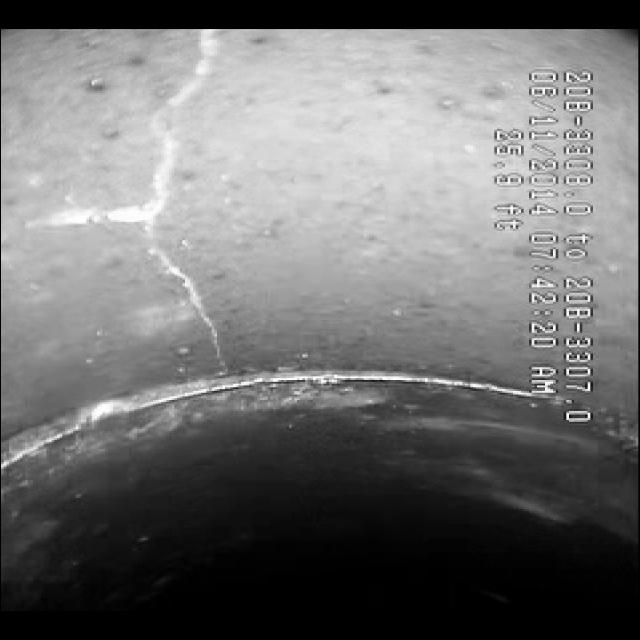Crack: (102, 51, 263, 339)
